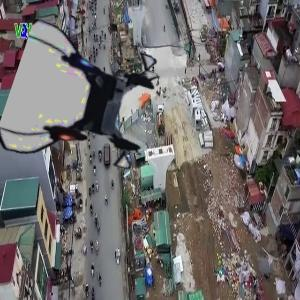drone: (12, 28, 160, 176)
